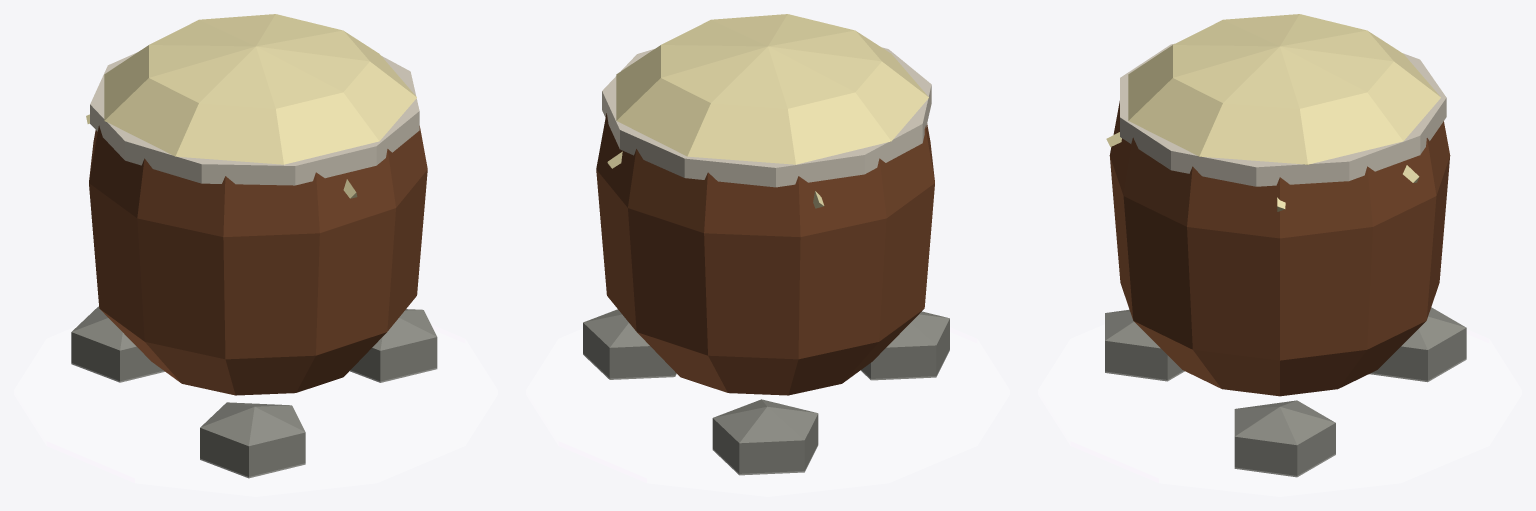
The model's file is prop_keep_steamer.glb.
3 renders of one model, left to right at view 1: azimuth 30°, elevation 25°; view 2: azimuth 150°, elevation 25°; view 3: azimuth 270°, elevation 25°, orthographic.
Parts seen in each view (by area): view 1: prop_keep_steamer, Glow; view 2: prop_keep_steamer, Glow; view 3: prop_keep_steamer, Glow.
Part boxes in pixels (<box>): prop_keep_steamer: <box>71,14,437,478</box>; Glow: <box>14,325,497,496</box>; prop_keep_steamer: <box>583,14,949,475</box>; Glow: <box>526,327,1009,496</box>; prop_keep_steamer: <box>1105,14,1466,477</box>; Glow: <box>1038,324,1521,496</box>.
Size of the model in its own units: 0.9 by 0.741 by 0.9.
